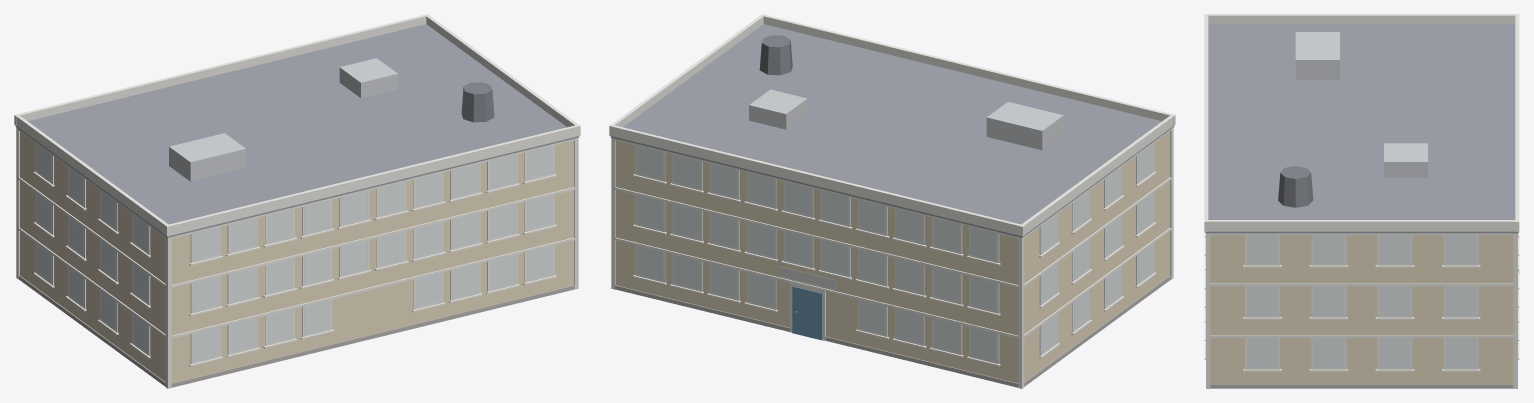
File: office_a.glb
The picture shows the model from 3 angles, left to right: view 1: azimuth 30°, elevation 25°; view 2: azimuth 150°, elevation 25°; view 3: azimuth 270°, elevation 25°; orthographic projection. The views are drawn at different scales.
Visible parts, largest first — view 1: body, roof; view 2: body, roof; view 3: roof, body.
Part boxes in pixels (bbox=[...]): body: bbox=[16, 127, 578, 388]; roof: bbox=[14, 14, 580, 237]; body: bbox=[611, 127, 1173, 388]; roof: bbox=[609, 14, 1175, 237]; roof: bbox=[1204, 14, 1519, 233]; body: bbox=[1204, 232, 1519, 388].
Size of the model in its own units: 22.3 by 9.4 by 14.28.
